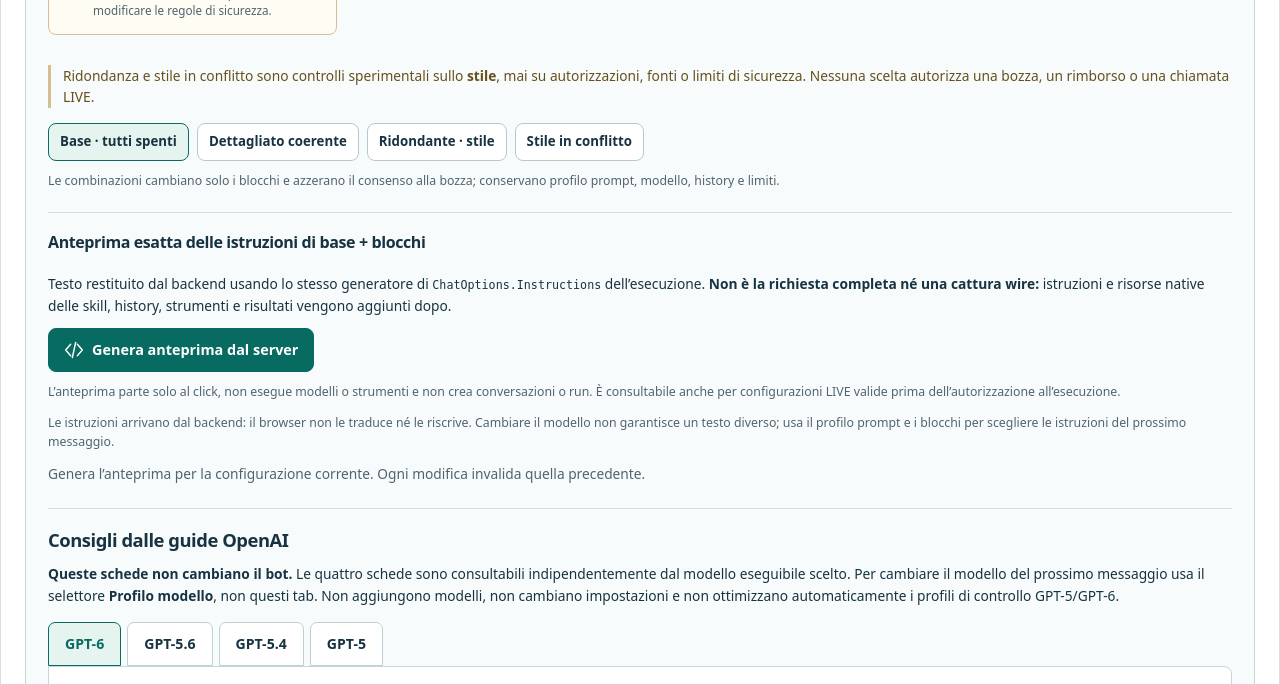
Test: laboratorio prompt senza inferenza › modello e profilo prompt invalidano le preview pendenti senza richieste automatiche o risultati obsoleti
(page scrolled)
Click the button "Genera anteprima dal server" at [181, 350], box [48,328,314,372]
(page scrolled)
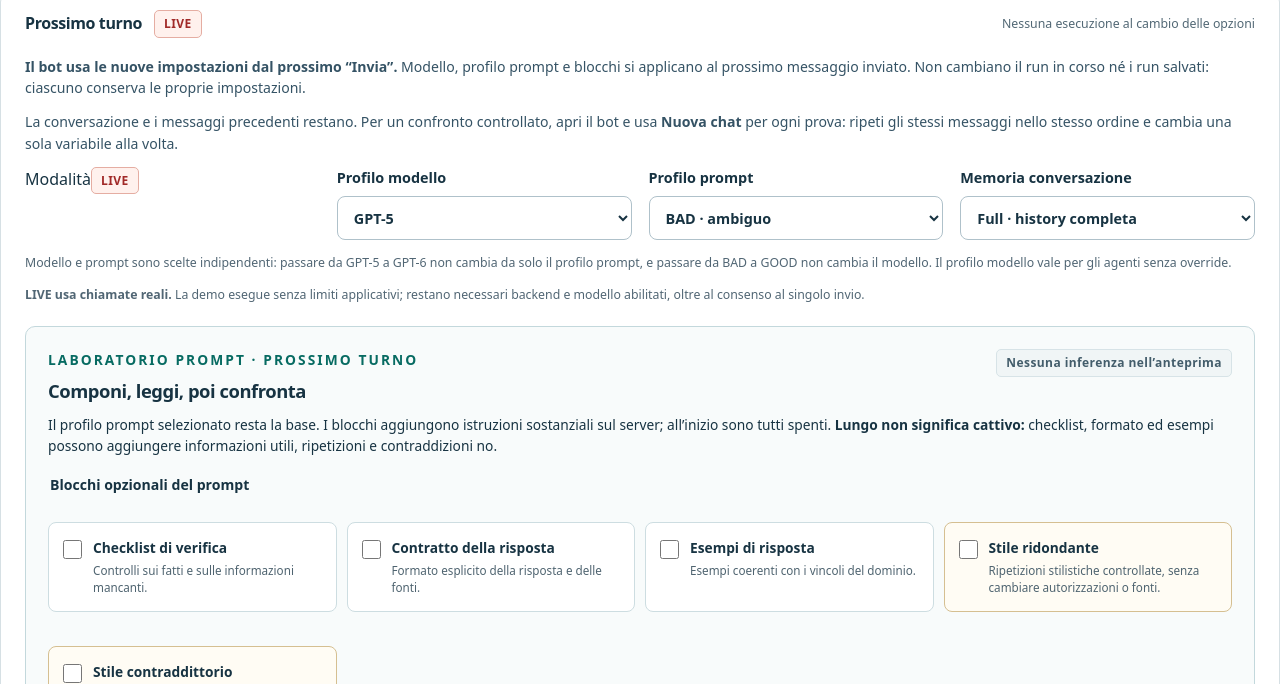
Select "GPT-6 Astra" in the dropdown labelled "Profilo modello" at [484, 218], box [337,196,632,240]
(page scrolled)
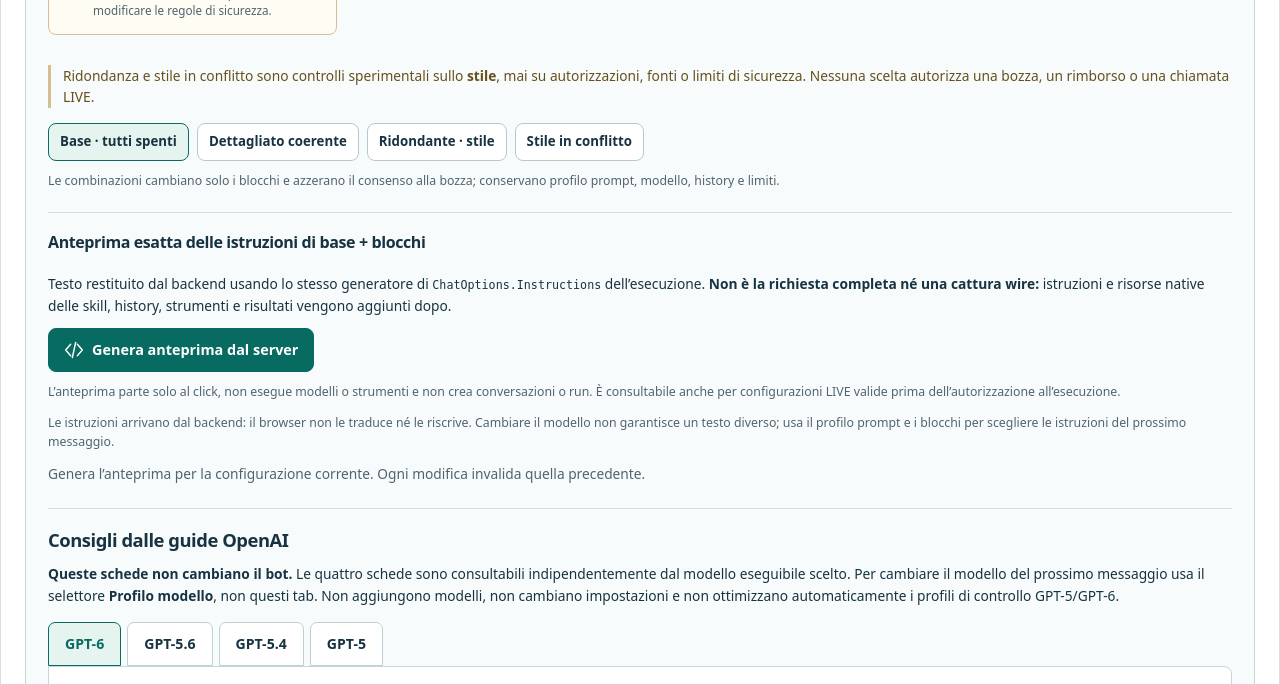
Click the button "Genera anteprima dal server" at [181, 350], box [48,328,314,372]
(page scrolled)
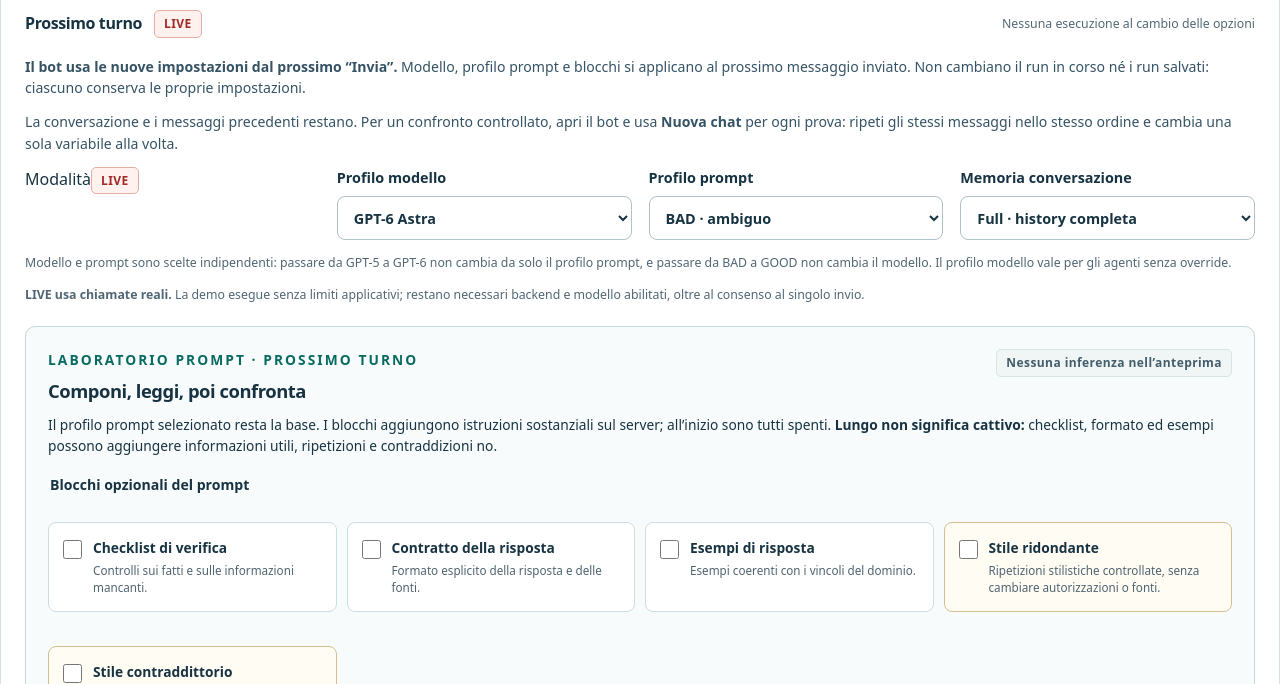
Select "GOOD · esplicito" in the dropdown labelled "Profilo prompt" at [796, 218], box [648,196,943,240]
(page scrolled)
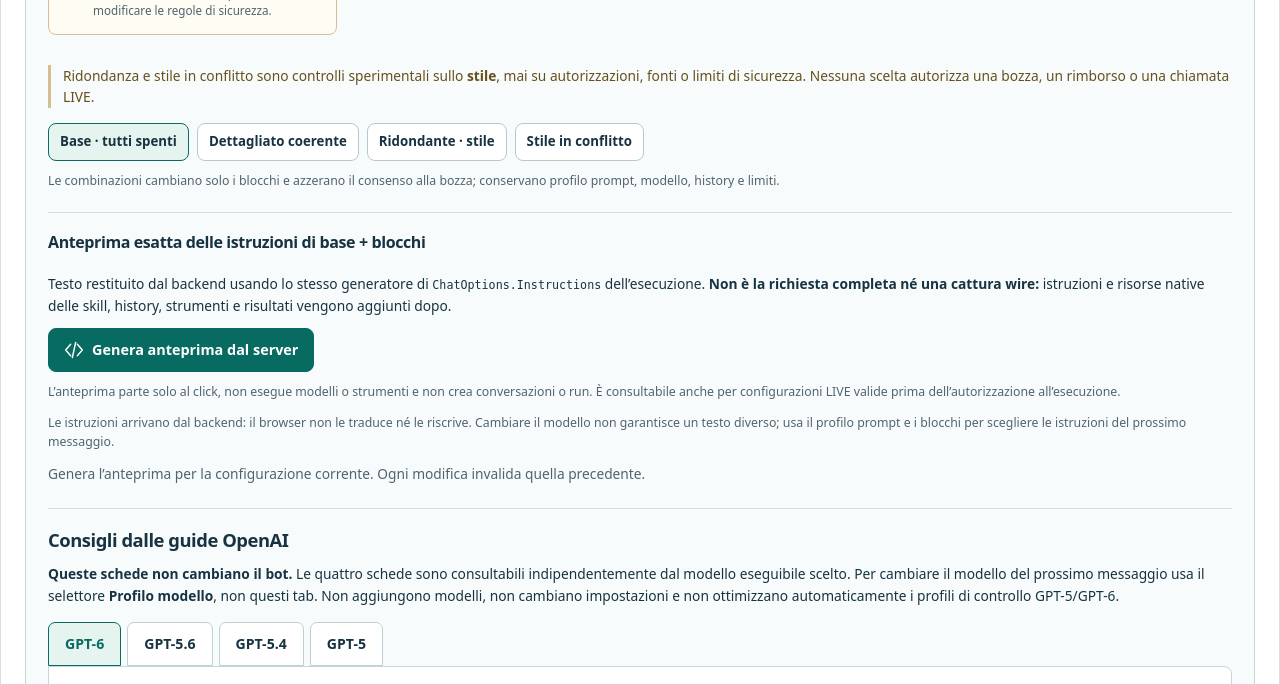
Click the button "Genera anteprima dal server" at [181, 350], box [48,328,314,372]
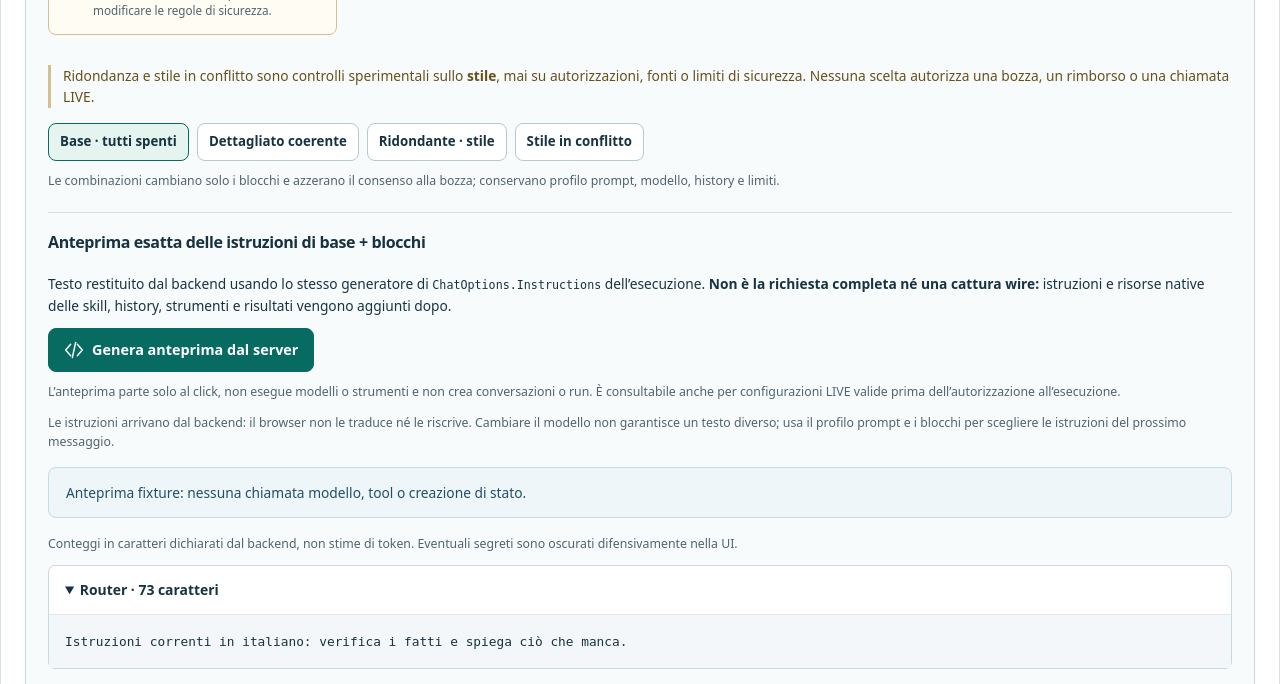
Expected: the text "Istruzioni correnti in italiano: verifica i fatti e spiega ciò che manca." is shown, [49,614,1231,668]
